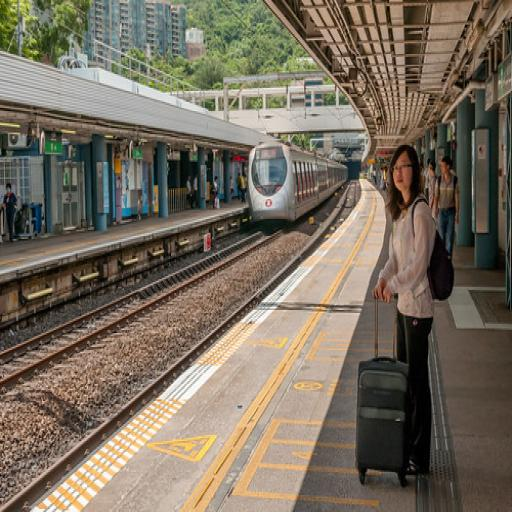platform_edge: (68, 398, 324, 512), (187, 273, 359, 395), (287, 203, 389, 270)
